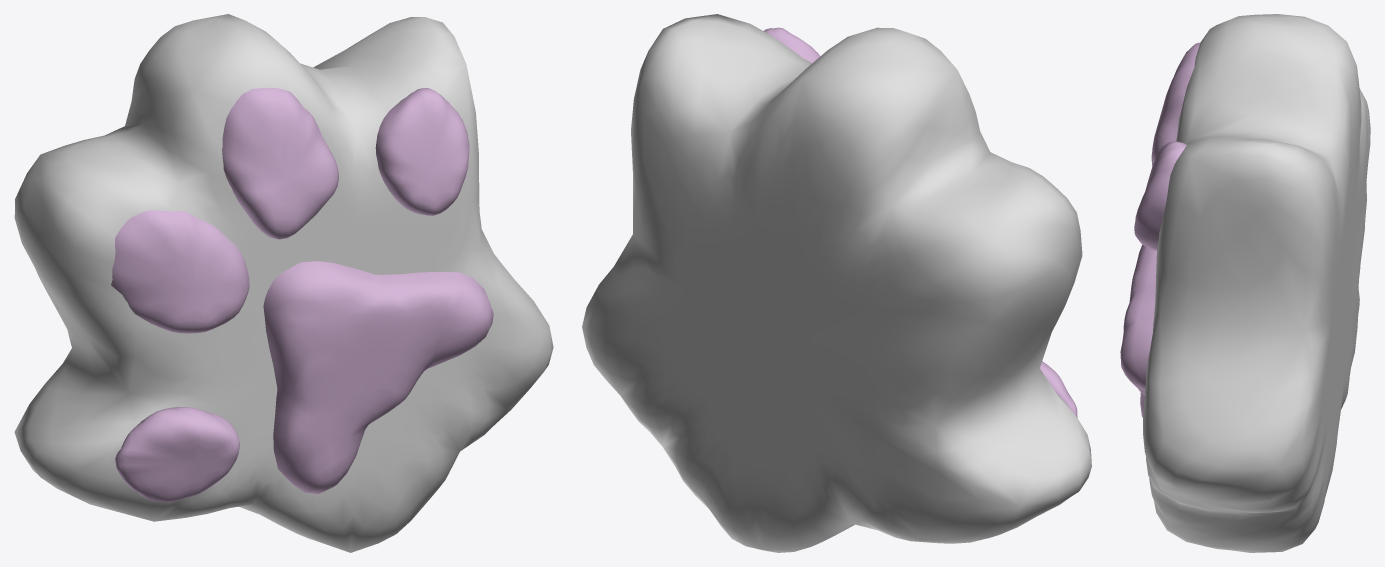
Rendered from catpaw.glb.
3 renders of one model, left to right at view 1: azimuth 30°, elevation 25°; view 2: azimuth 150°, elevation 25°; view 3: azimuth 270°, elevation 25°, orthographic. The views are drawn at different scales.
Visible parts, largest first — view 1: polySurface4; view 2: polySurface4; view 3: polySurface4.
Boxes of the visible parts, <box> form: polySurface4: <box>14,14,553,552</box>; polySurface4: <box>582,14,1091,552</box>; polySurface4: <box>1120,14,1370,552</box>.
Size of the model in its own units: 0.064 by 0.0656 by 0.0307.
